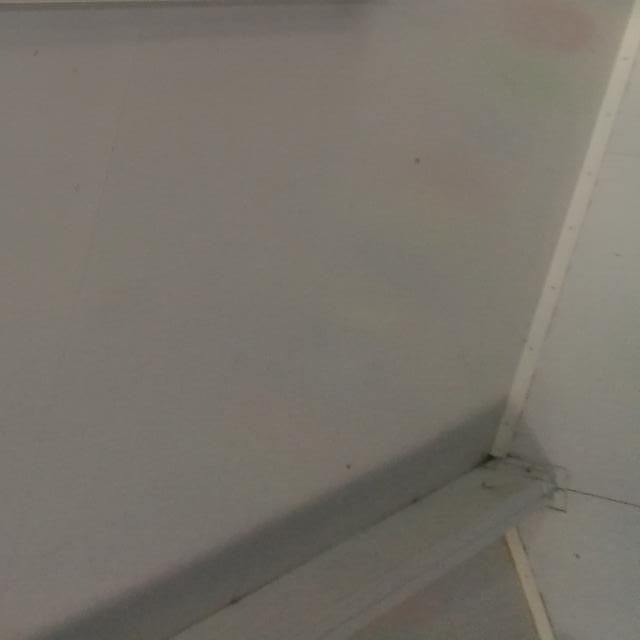fluorescent tube: (0, 0, 450, 47)
